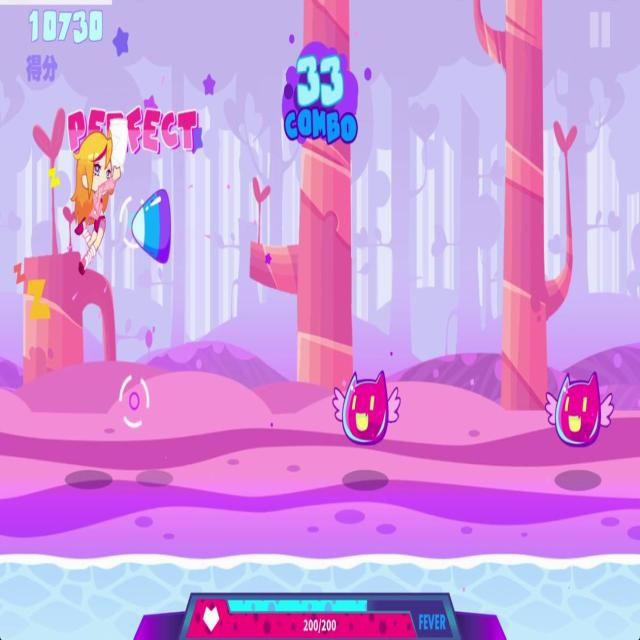jian: (129, 182, 175, 270)
mao: (330, 360, 403, 452), (542, 364, 616, 452)
